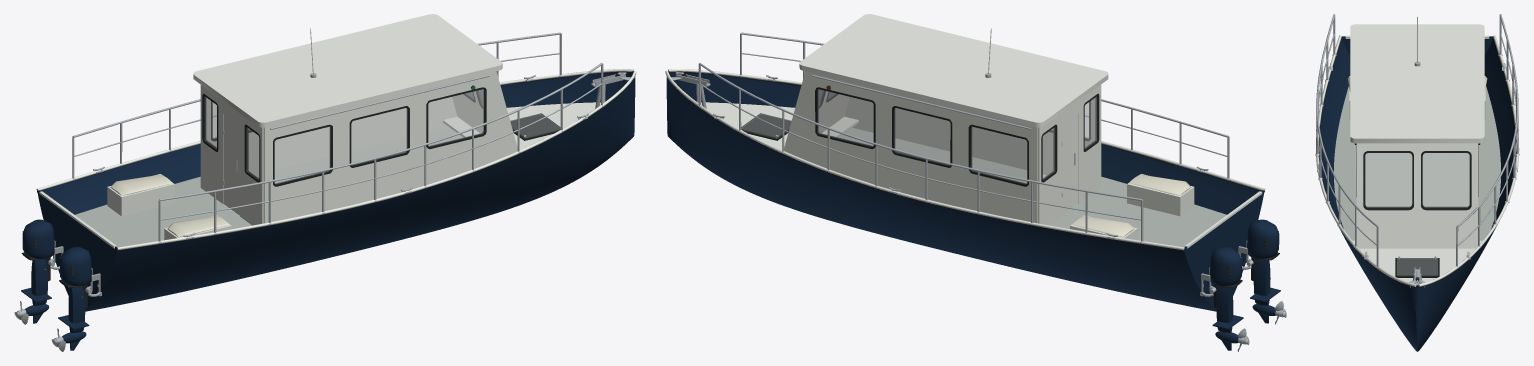
The model's file is yacht.glb.
The picture shows the model from 3 angles, left to right: view 1: azimuth 30°, elevation 25°; view 2: azimuth 150°, elevation 25°; view 3: azimuth 270°, elevation 25°; orthographic projection. The views are drawn at different scales.
Visible parts, largest first — view 1: cabin-cruiser — STATIC material batch; view 2: cabin-cruiser — STATIC material batch; view 3: cabin-cruiser — STATIC material batch.
Part boxes in pixels (x1=…): cabin-cruiser — STATIC material batch: x1=14, y1=14, x2=636, y2=351; cabin-cruiser — STATIC material batch: x1=665, y1=14, x2=1286, y2=351; cabin-cruiser — STATIC material batch: x1=1315, y1=14, x2=1519, y2=351.
Bounding box in the file's own units: 10.24 × 4.01 × 3.14.
11 materials, 6 textured.
